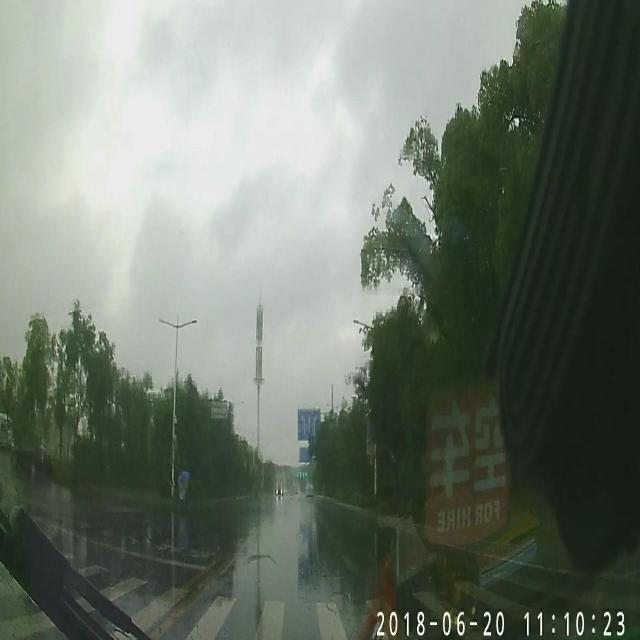car: (304, 482, 314, 498), (274, 480, 284, 496)
